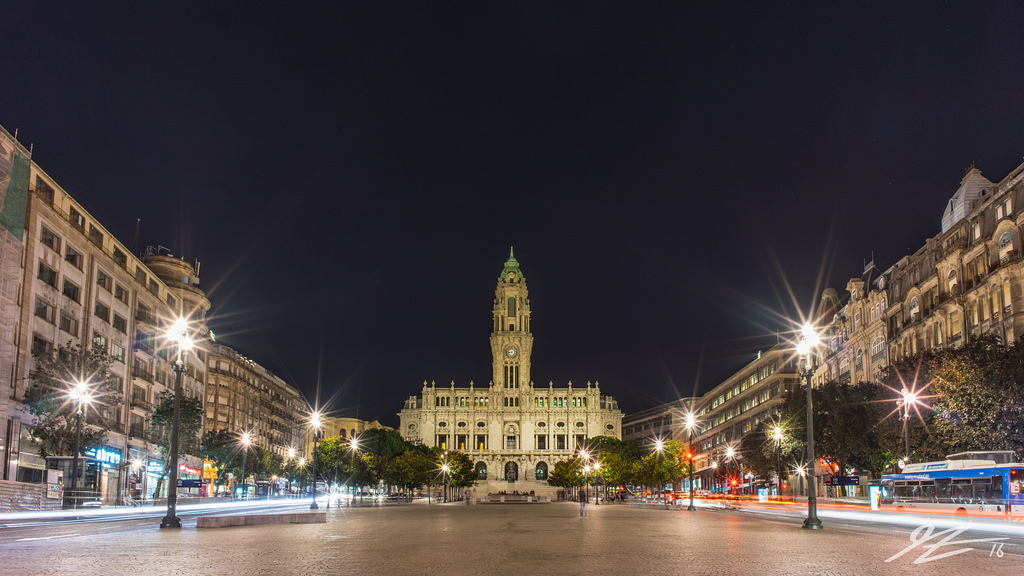camara: (393, 244, 627, 480)
